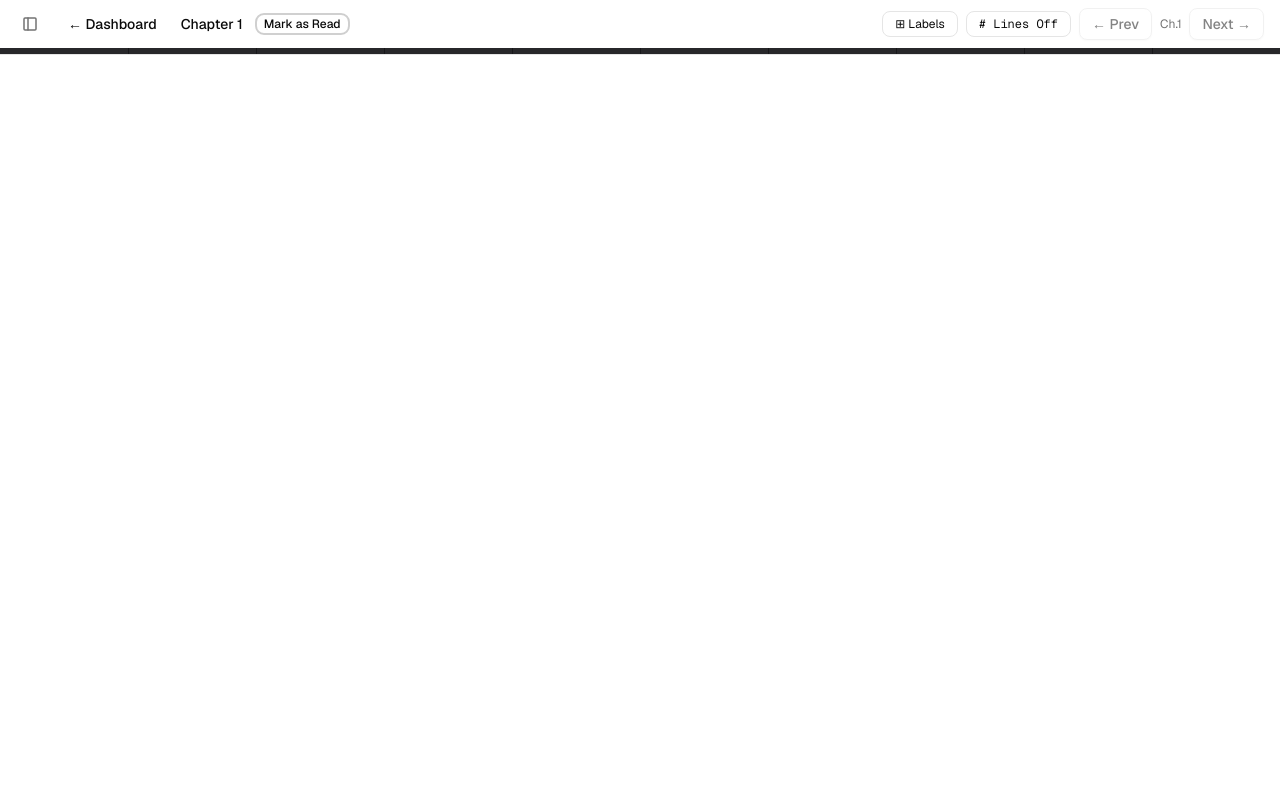
Scenario: reader toolbar read toggle focus (KAN-338) › returns focus to the toggle when the book-complete celebration is dismissed
Step 1. Click the button "Mark as Read" → [302, 24], box [255,13,350,35]
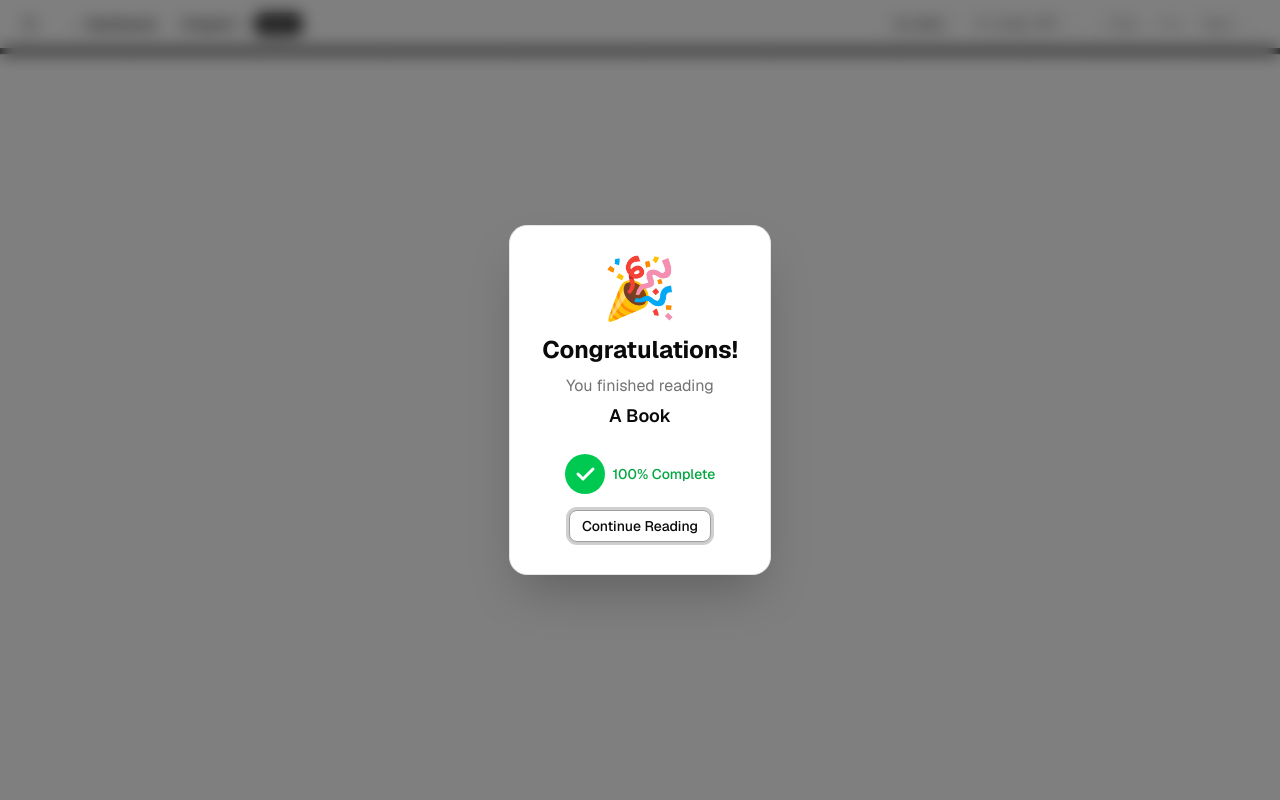
Step 2. Click the button "Continue Reading" → [640, 526], box [569,510,711,542]
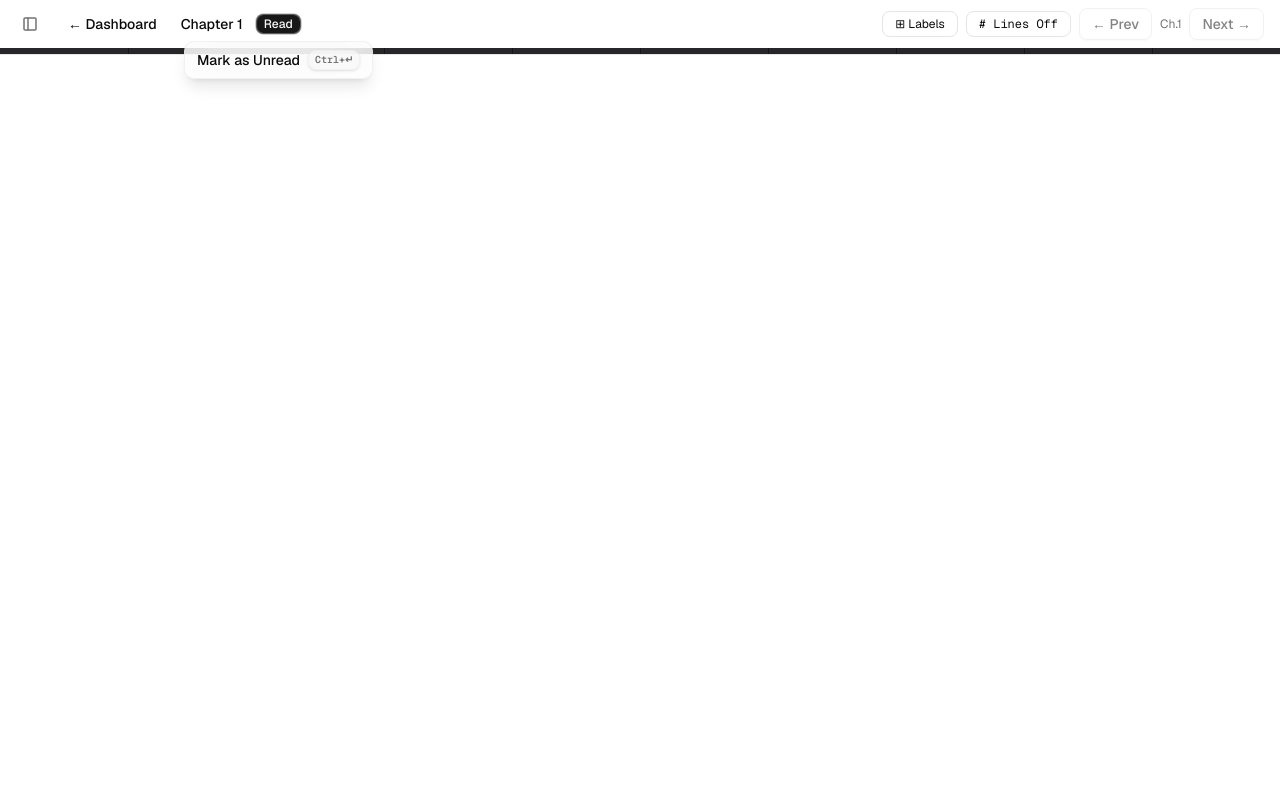
Check: the dialog is gone
